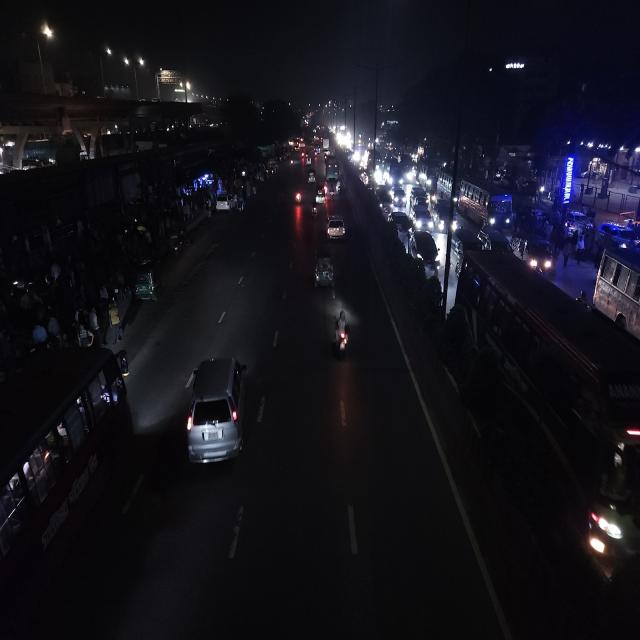bus: (457, 247, 640, 589), (0, 342, 130, 640), (592, 241, 640, 359), (458, 178, 514, 228), (436, 170, 457, 205), (383, 156, 406, 187), (324, 155, 342, 181), (416, 158, 432, 187), (369, 150, 383, 182)
car: (182, 350, 250, 480), (409, 229, 441, 273), (436, 200, 460, 235), (326, 203, 346, 244), (409, 205, 435, 232), (392, 184, 406, 212), (216, 192, 232, 214), (314, 186, 326, 205)
cng: (132, 257, 164, 304), (312, 245, 335, 294), (306, 167, 316, 185)
motorcycle: (332, 304, 351, 362), (168, 228, 192, 259), (294, 186, 304, 207)
pedestrian: (105, 298, 124, 341)
pickup_van: (521, 234, 554, 274)
